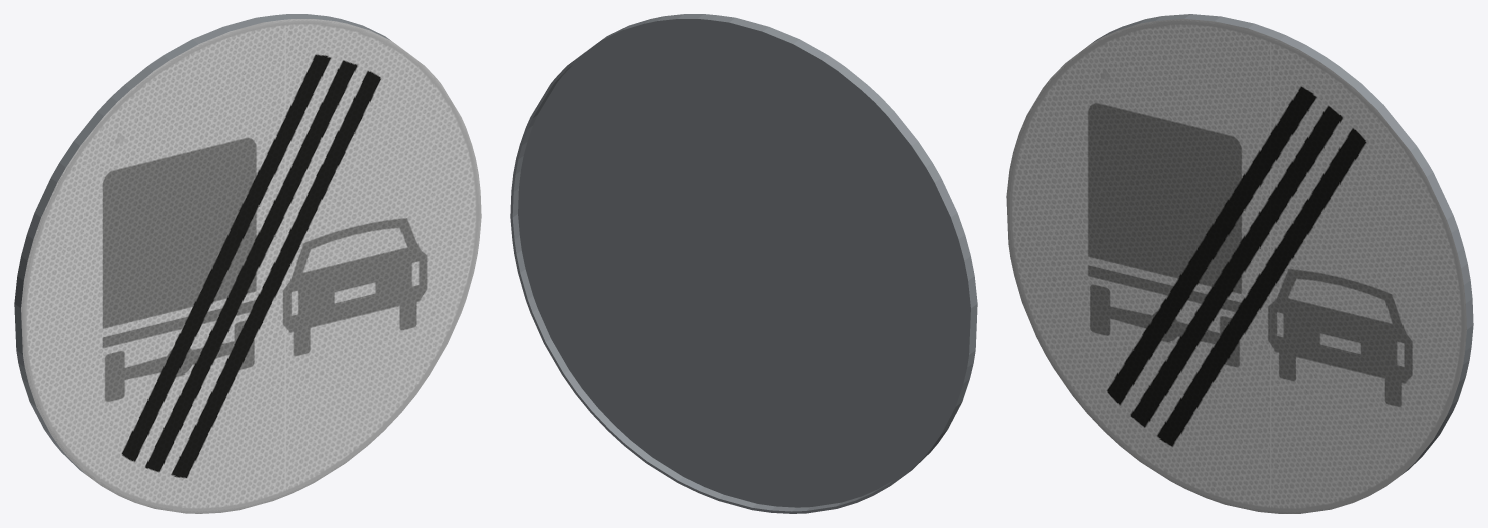
The picture shows the model from 3 angles, left to right: view 1: azimuth 30°, elevation 25°; view 2: azimuth 150°, elevation 25°; view 3: azimuth 330°, elevation 25°; orthographic projection.
Parts seen in each view (by area): view 1: cat_122492f47410d0e4; view 2: cat_122492f47410d0e4; view 3: cat_122492f47410d0e4.
Boxes of the visible parts, bbox=[...] form: cat_122492f47410d0e4: bbox=[14, 14, 481, 513]; cat_122492f47410d0e4: bbox=[510, 14, 977, 513]; cat_122492f47410d0e4: bbox=[1006, 14, 1473, 513].
Size of the model in its own units: 0.6 by 0.015 by 0.6.
2 materials, 1 textured.
